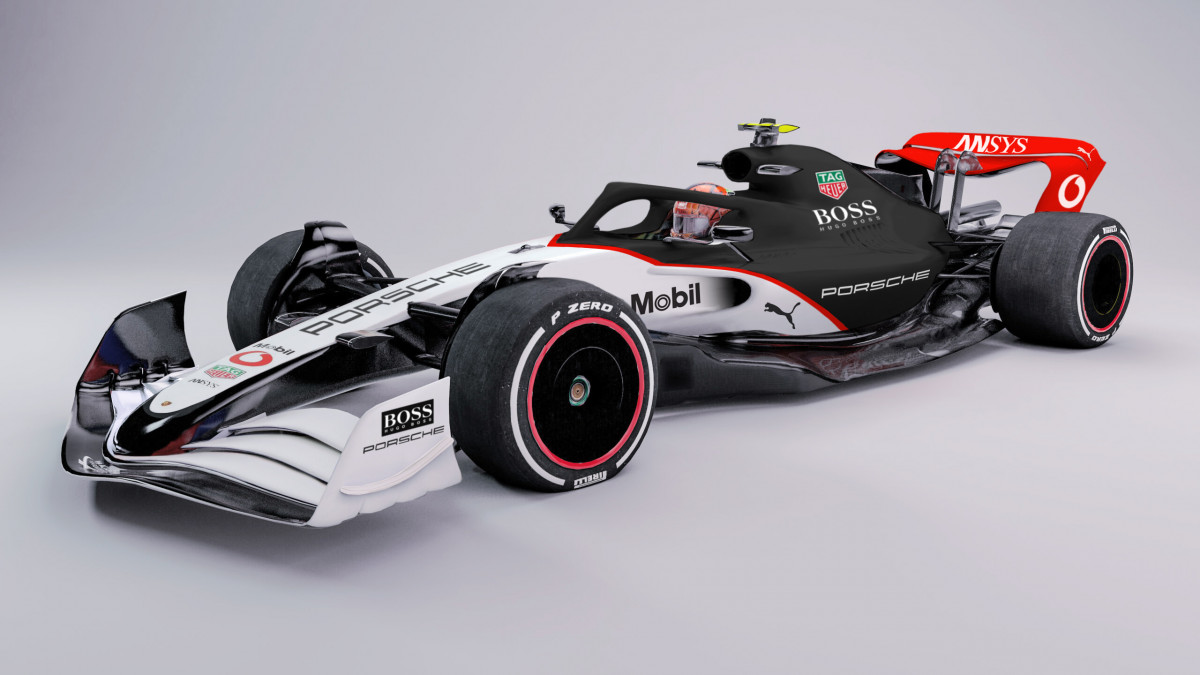Bobsleigh: (62, 145, 1135, 538)
